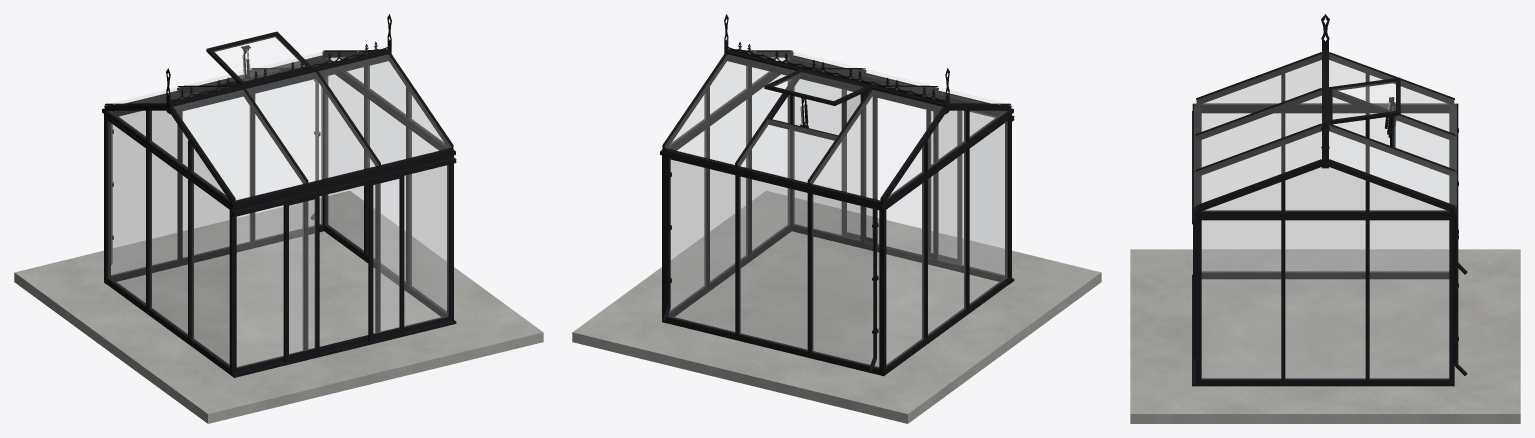
Rendered from sg-rect-7-9-7-9-decor.glb.
The picture shows the model from 3 angles, left to right: view 1: azimuth 30°, elevation 25°; view 2: azimuth 150°, elevation 25°; view 3: azimuth 270°, elevation 25°; orthographic projection.
Parts seen in each view (by area): view 1: scandiglas-rect-7-9-7-9-decor; view 2: scandiglas-rect-7-9-7-9-decor; view 3: scandiglas-rect-7-9-7-9-decor.
Part boxes in pixels (x1,y1,x2,y2): scandiglas-rect-7-9-7-9-decor: (14,14,543,423); scandiglas-rect-7-9-7-9-decor: (572,14,1101,423); scandiglas-rect-7-9-7-9-decor: (1130,14,1520,423).
Size of the model in its own units: 3.64 by 2.81 by 3.64.
5 materials, 1 textured.
